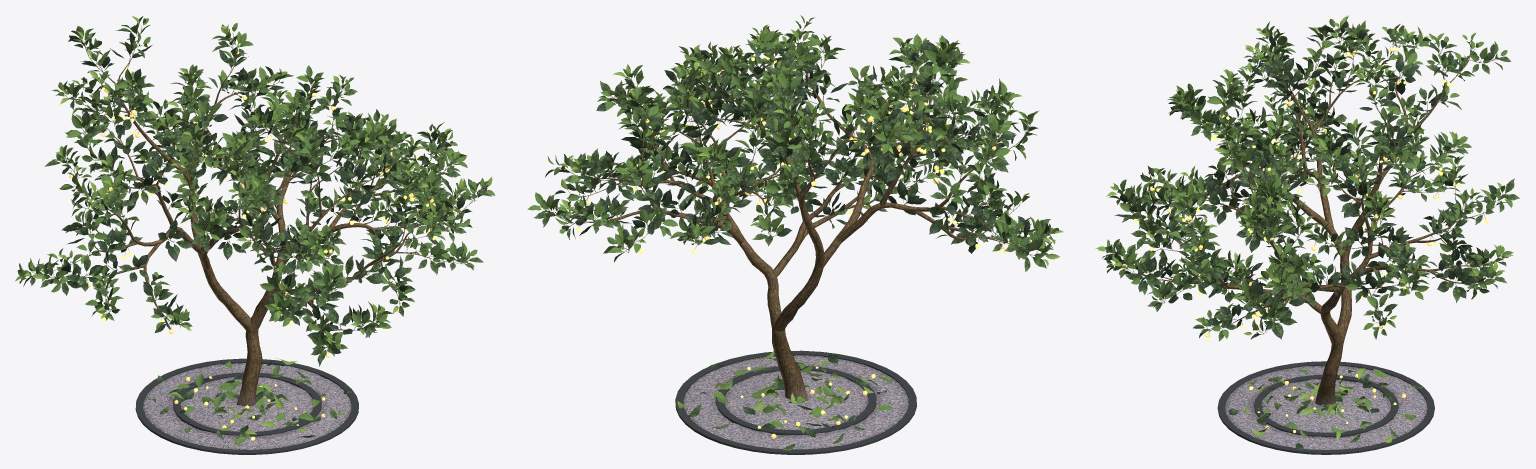
File: summerTree.fbx
3 renders of one model, left to right at view 1: azimuth 30°, elevation 25°; view 2: azimuth 150°, elevation 25°; view 3: azimuth 270°, elevation 25°, orthographic. The views are drawn at different scales.
Visible parts, largest first — view 1: summerTreeCrown_leaves, summerGround, summerTree, summerTreeCrown_leawesOnGround, summerTreeCrown_berries; view 2: summerTreeCrown_leaves, summerGround, summerTree, summerTreeCrown_leawesOnGround, summerTreeCrown_berries; view 3: summerTreeCrown_leaves, summerGround, summerTree, summerTreeCrown_leawesOnGround, summerTreeCrown_berries.
Part boxes in pixels (left/top/right/bottom): summerTreeCrown_leaves: left=15, top=16, right=495, bottom=366; summerGround: left=135, top=358, right=358, bottom=454; summerTree: left=43, top=30, right=479, bottom=405; summerTreeCrown_leawesOnGround: left=148, top=358, right=353, bottom=445; summerTreeCrown_berries: left=69, top=50, right=455, bottom=357; summerTreeCrown_leaves: left=527, top=15, right=1063, bottom=271; summerGround: left=675, top=350, right=916, bottom=454; summerTree: left=547, top=29, right=1043, bottom=400; summerTreeCrown_leawesOnGround: left=677, top=351, right=895, bottom=450; summerTreeCrown_berries: left=576, top=52, right=1030, bottom=253; summerTreeCrown_leaves: left=1095, top=15, right=1519, bottom=340; summerGround: left=1217, top=361, right=1434, bottom=454; summerTree: left=1119, top=35, right=1500, bottom=404; summerTreeCrown_leawesOnGround: left=1229, top=368, right=1424, bottom=450; summerTreeCrown_berries: left=1121, top=41, right=1496, bottom=340.
Size of the model in its own units: 6.72 by 5.43 by 5.9.
